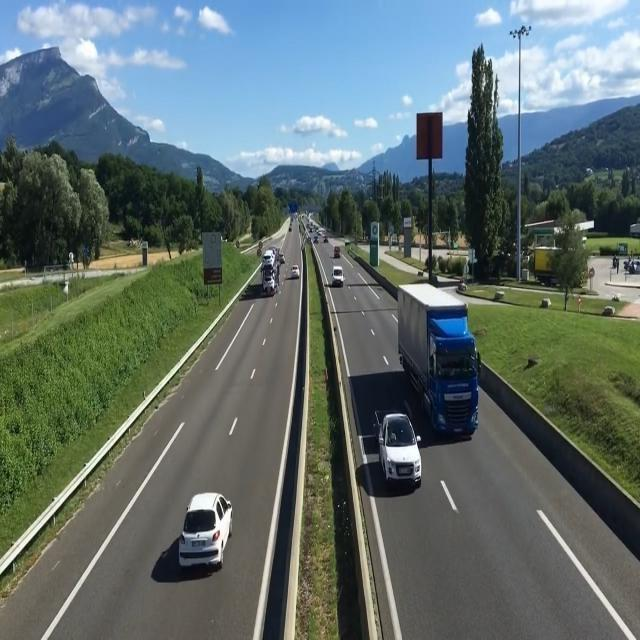Car: (155, 483, 262, 575), (373, 410, 426, 492), (286, 263, 304, 281), (330, 244, 345, 260), (310, 235, 320, 247)
Truck: (390, 285, 495, 442), (252, 249, 281, 298)
Van: (326, 264, 351, 290)
